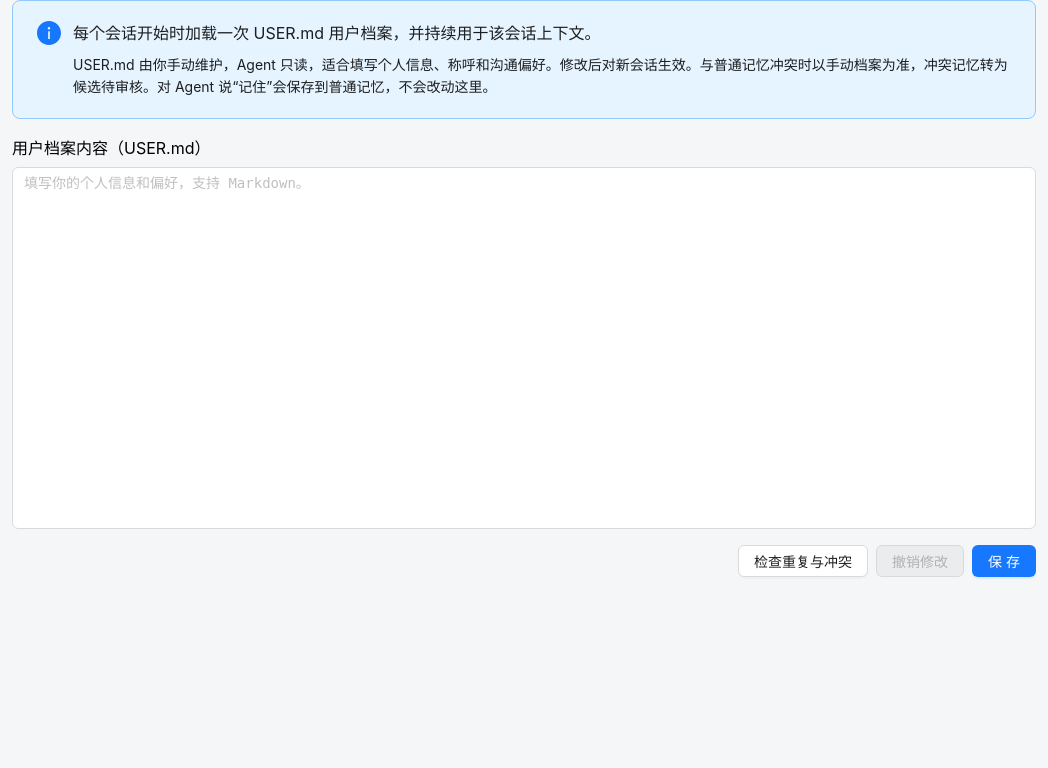
it: Strong memory › does not overwrite a new audit with delayed initial status
Type "新档案" into the text box labelled "用户档案内容（USER.md）" at {"x": 524, "y": 348}, box top-left (12, 167), bottom-right (1036, 529)
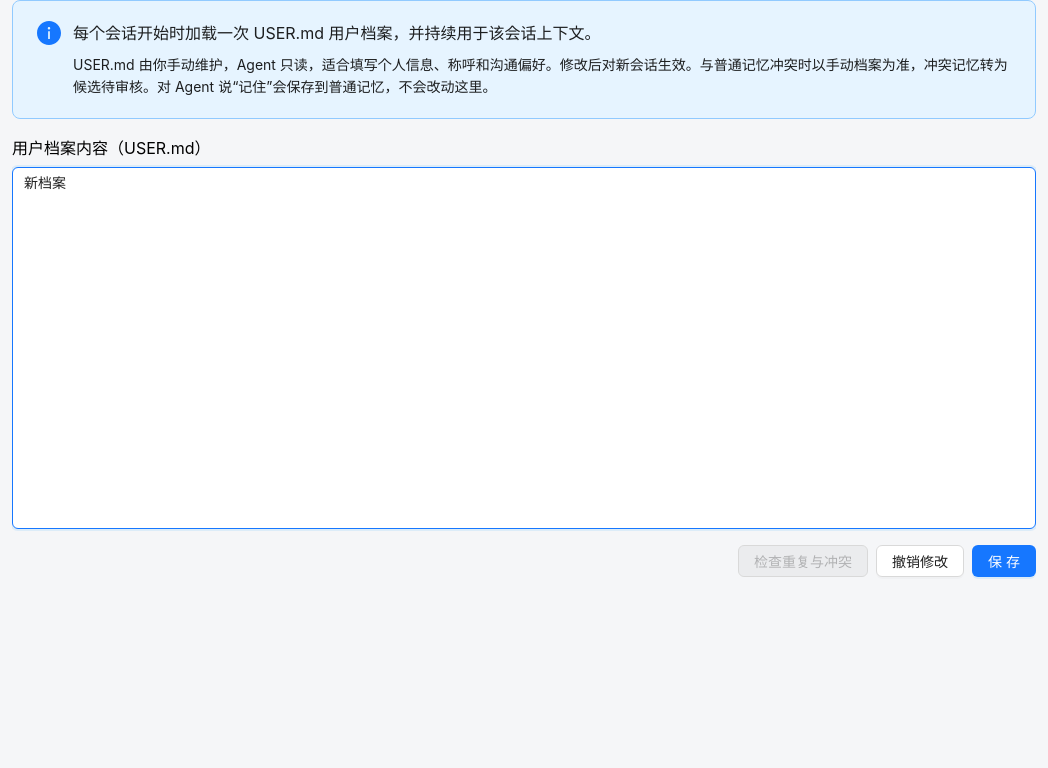
Click the button "保 存" at {"x": 1004, "y": 561}, box top-left (972, 545), bottom-right (1036, 577)
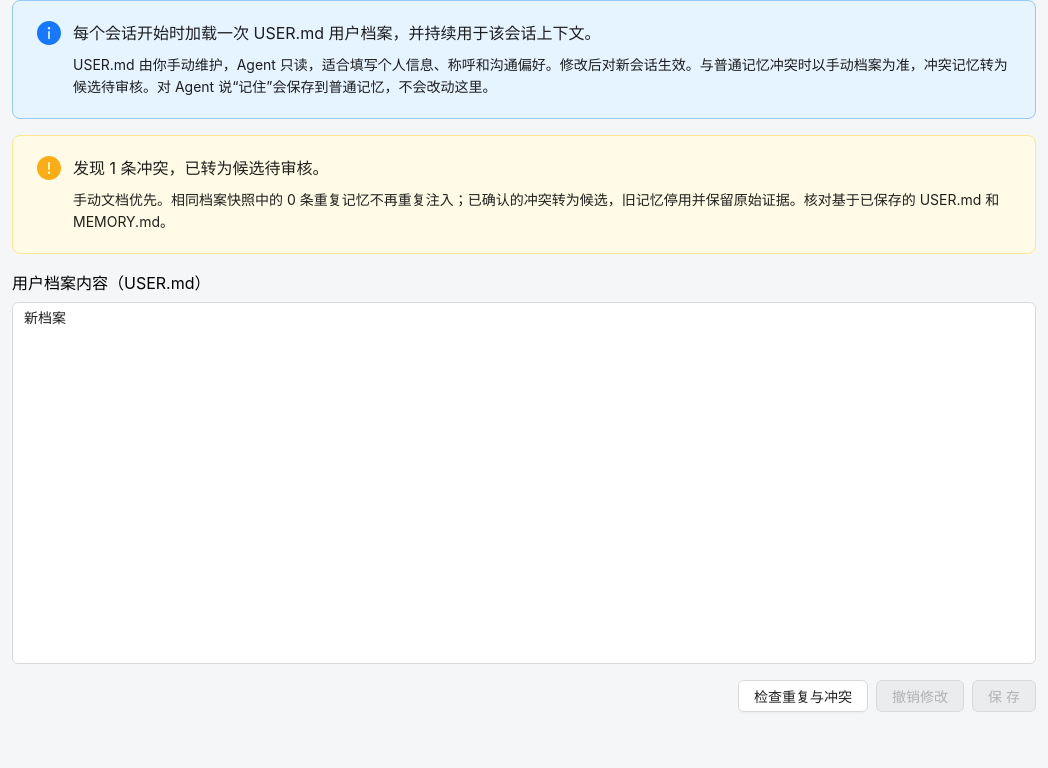
Expected: the text "发现 1 条冲突，已转为候选待审核。" is shown, top-left (73, 158), bottom-right (328, 178)
